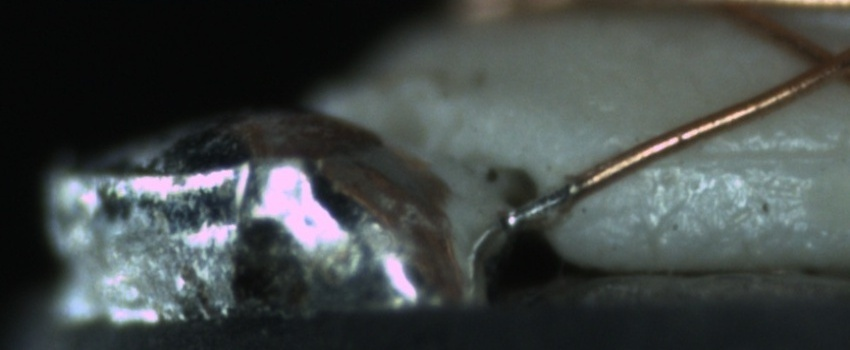CL: (782, 32, 849, 94)
DL: (647, 124, 846, 186)
TS: (506, 180, 582, 229)
TTCW: (504, 170, 593, 229)
